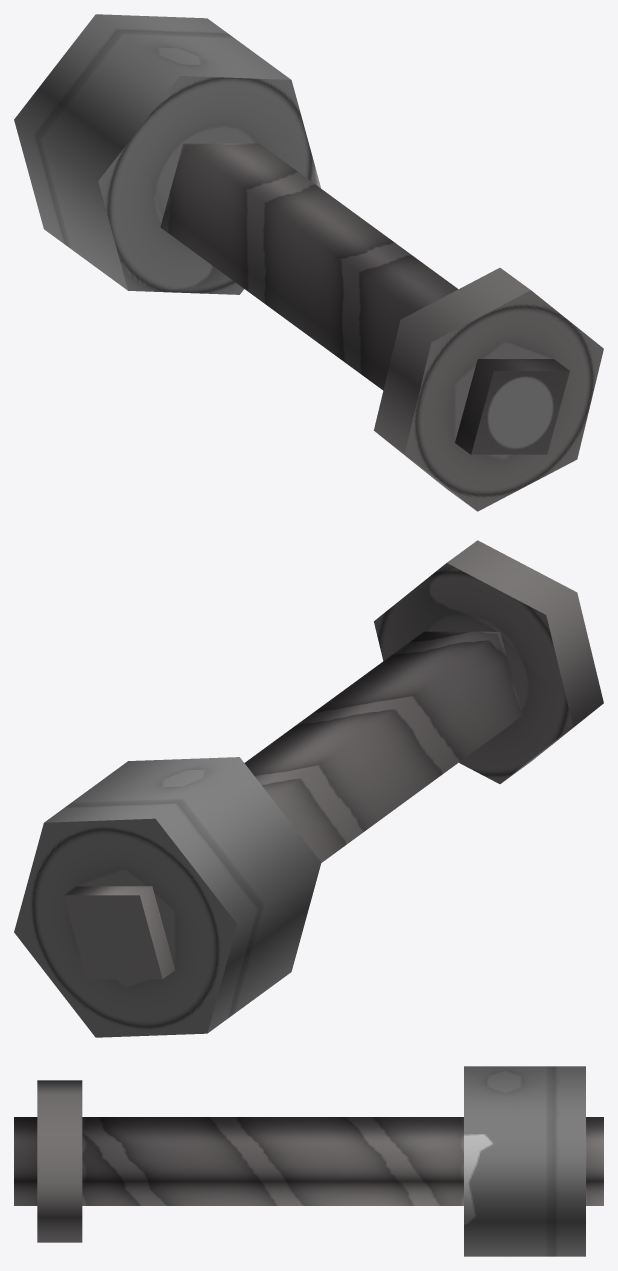
File: obj_interactive_suspensionoffroad_01_off_lod1.fbx
3 renders of one model, top to bottom at view 1: azimuth 30°, elevation 25°; view 2: azimuth 150°, elevation 25°; view 3: azimuth 270°, elevation 25°, orthographic. The views are drawn at different scales.
Parts seen in each view (by area): view 1: obj_interactive_suspensionoffroad_01_off_lod1; view 2: obj_interactive_suspensionoffroad_01_off_lod1; view 3: obj_interactive_suspensionoffroad_01_off_lod1.
Part boxes in pixels (x1,y1,x2,y2): obj_interactive_suspensionoffroad_01_off_lod1: [14, 14, 603, 511]; obj_interactive_suspensionoffroad_01_off_lod1: [14, 540, 603, 1037]; obj_interactive_suspensionoffroad_01_off_lod1: [14, 1066, 603, 1256].
Size of the model in its own units: 1.02 by 1.02 by 3.23.
1 material, 1 textured.
